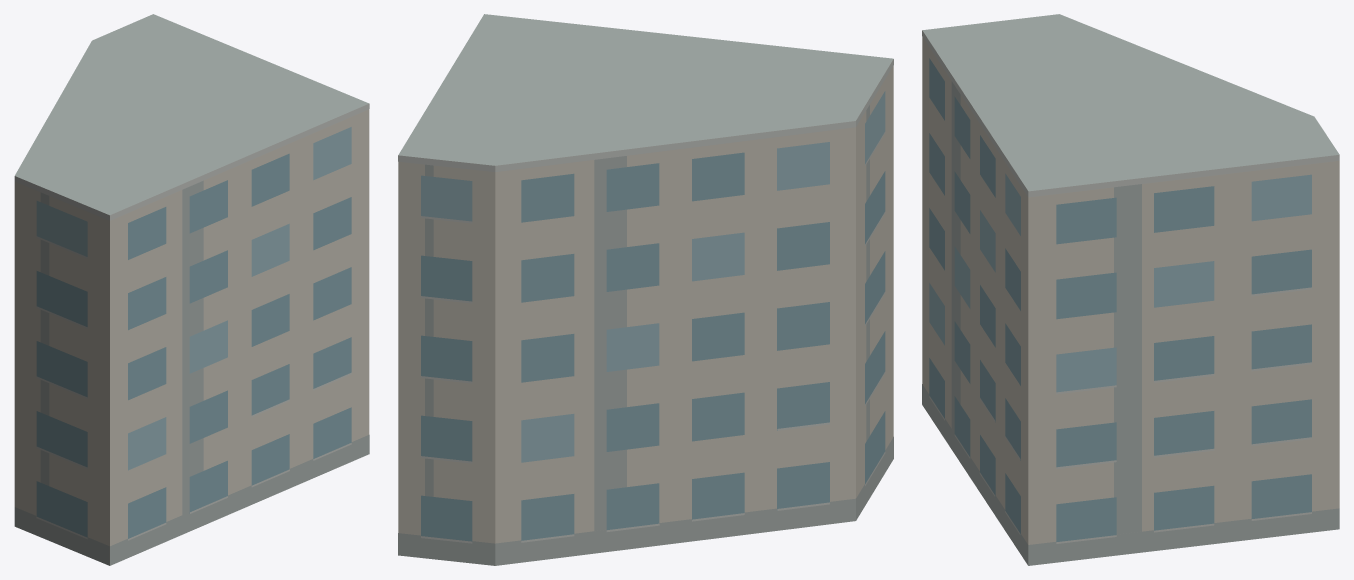
The model's file is residential-5cc6a7a9-3e01-46c7-9e8d-f413aa1028bc.glb.
3 views of the same model, side by side, from view 1: azimuth 30°, elevation 25°; view 2: azimuth 150°, elevation 25°; view 3: azimuth 270°, elevation 25° (orthographic). The views are drawn at different scales.
Visible parts, largest first — view 1: residential-5cc6a7a9-3e01-46c7-9e8d-f413aa1028bc.tmp; view 2: residential-5cc6a7a9-3e01-46c7-9e8d-f413aa1028bc.tmp; view 3: residential-5cc6a7a9-3e01-46c7-9e8d-f413aa1028bc.tmp.
Boxes of the visible parts, x1,y1,x2,y2 form: residential-5cc6a7a9-3e01-46c7-9e8d-f413aa1028bc.tmp: (14, 14, 369, 565); residential-5cc6a7a9-3e01-46c7-9e8d-f413aa1028bc.tmp: (398, 14, 893, 565); residential-5cc6a7a9-3e01-46c7-9e8d-f413aa1028bc.tmp: (922, 14, 1339, 565).
Size of the model in its own units: 15.5 by 15.25 by 15.42.
